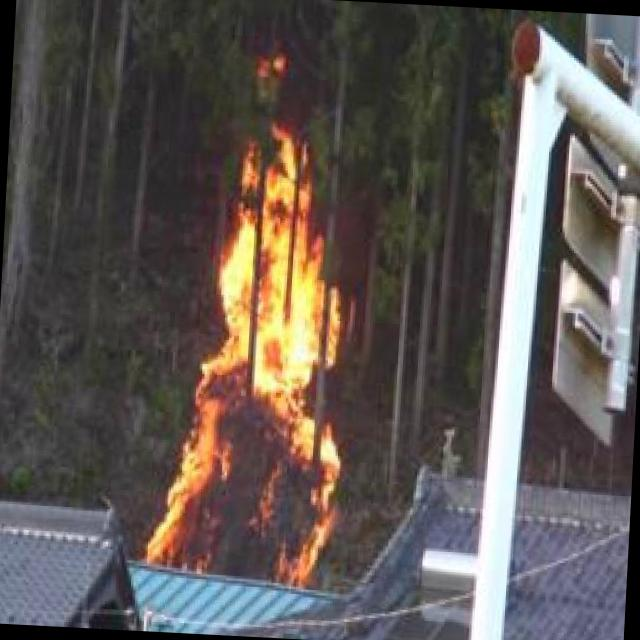Fire: (141, 127, 362, 592), (141, 127, 362, 592)
